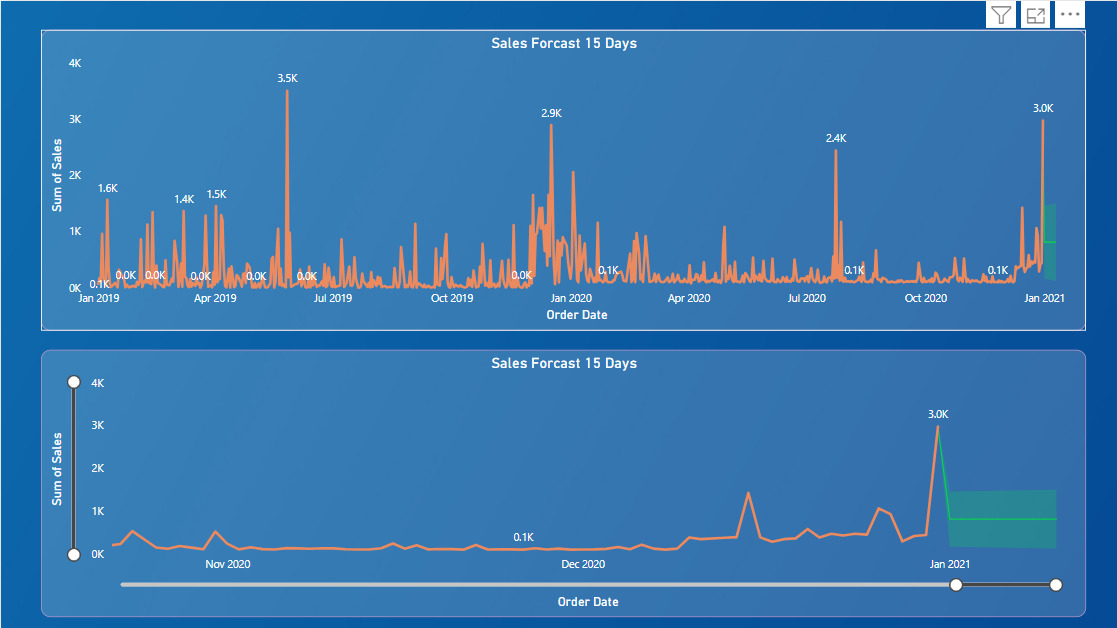

Layout of this report page (visuals, bound fields, positions):
{"tool":"powerbi","page":{"name":"Page 2","canvas":[1280,720],"ordinal":1},"visuals":[{"type":"lineChart","title":"Sales Forcast 15 Days","fields":{"Y":["Sum(SuperStore_Sales_Dataset.Sales)"],"Category":["SuperStore_Sales_Dataset.Order Date"]},"box":[45.7,32.9,1194.3,344.3],"z":0},{"type":"lineChart","title":"Sales Forcast 15 Days","fields":{"Y":["Sum(SuperStore_Sales_Dataset.Sales)"],"Category":["SuperStore_Sales_Dataset.Order Date"]},"box":[45.7,398.6,1194.3,305.7],"z":1000}]}

Visuals, with their boxes in screenshot pixels (x1, y1, x2, y2):
"Sales Forcast 15 Days" lineChart: detection(38, 24, 1029, 310)
"Sales Forcast 15 Days" lineChart: detection(38, 328, 1029, 582)
